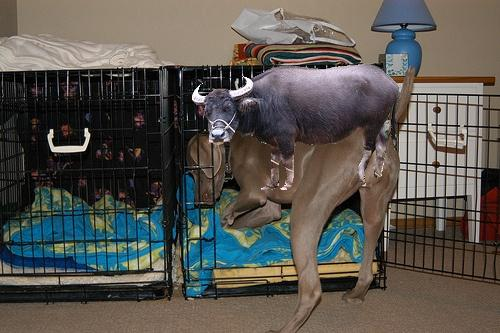tampered: (193, 65, 400, 190)
